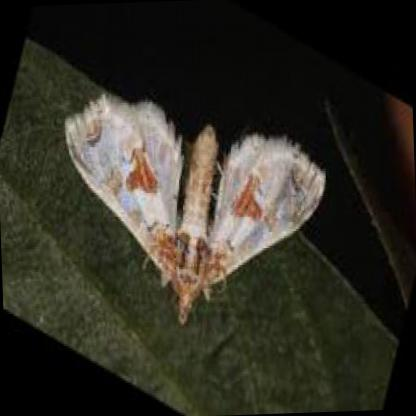leucinodes: (64, 96, 328, 326)
